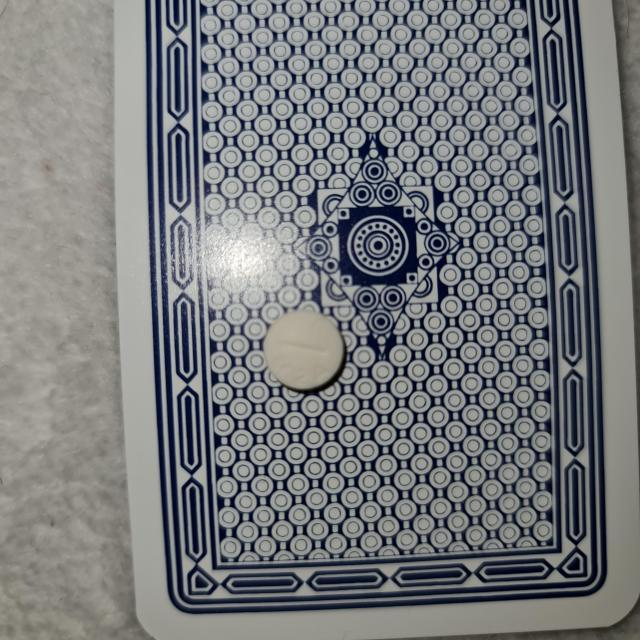pill: (262, 308, 348, 398)
